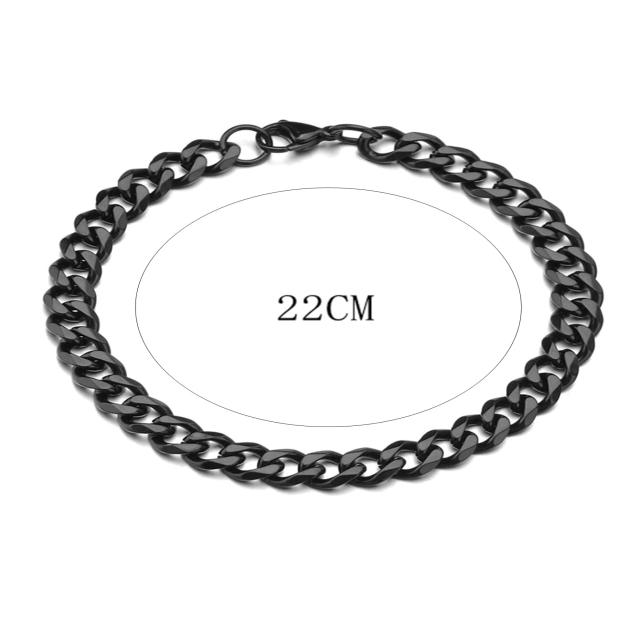bracelet: (13, 78, 640, 554)
